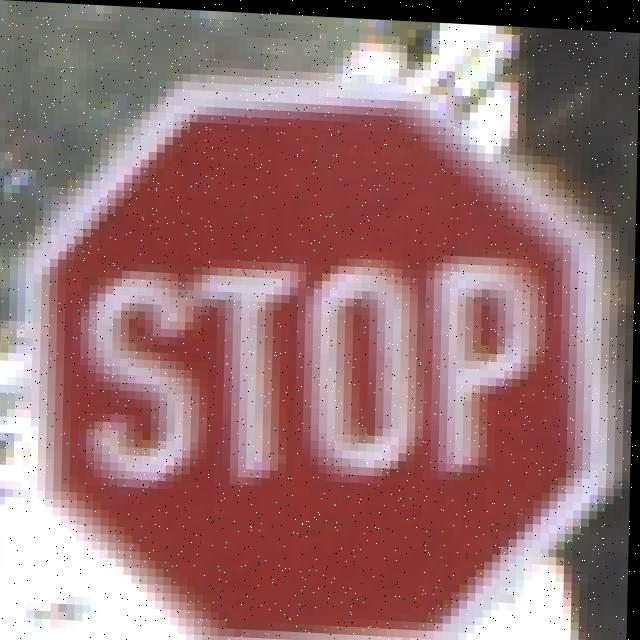stop: (29, 69, 613, 640)
